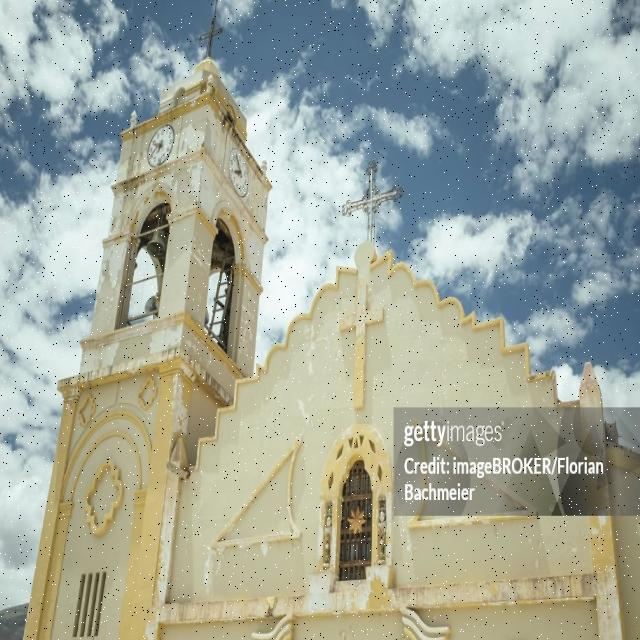CAMPANARIO: (89, 162, 280, 392)
TORRES: (26, 46, 264, 640)
colonial-architecture-: (1, 49, 640, 640)
